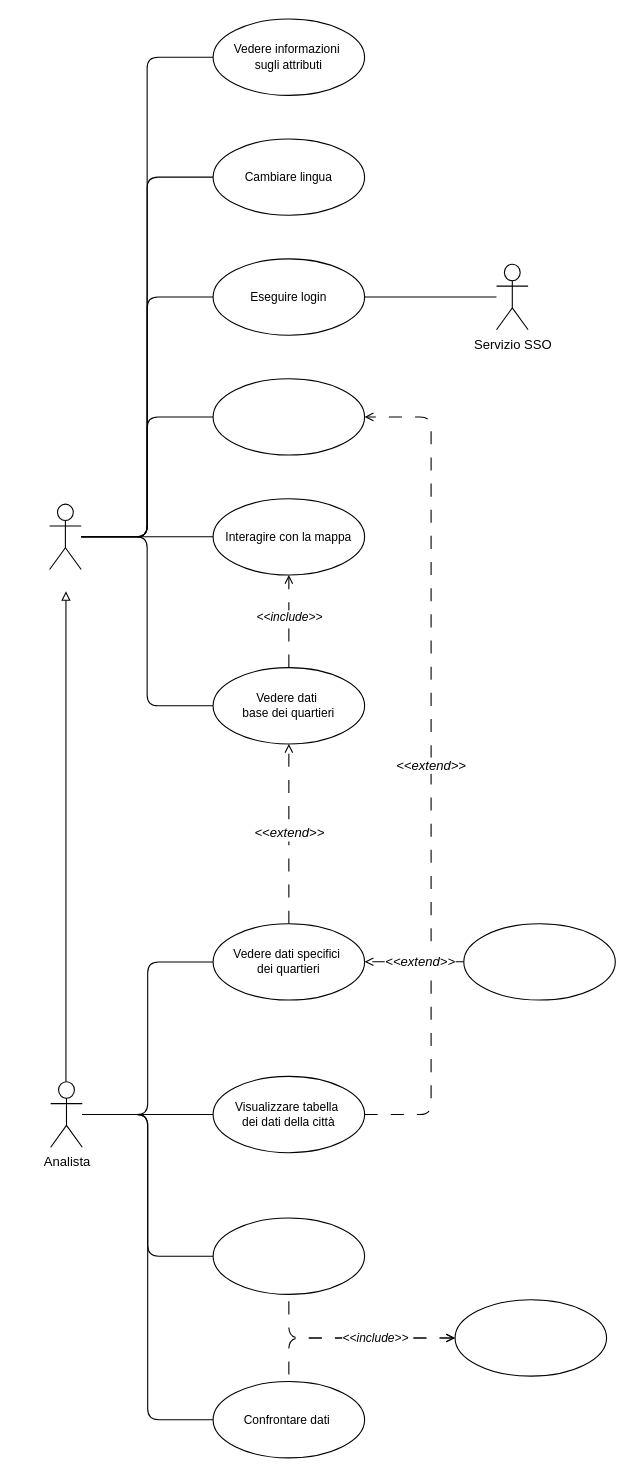
Some shapes in this 634 by 1477 pixel diagram are drawn without their labels. Each missing label, with the centre of its shape:
"Utente Anonimo" belongs at pixel 65 536.
"Vedere dati di un tipo specifico" belongs at pixel 539 961.
"Vedere dati generali città" belongs at pixel 288 416.
"Visualizzare grafici dei dati" belongs at pixel 530 1337.
"Visualizzare storico dei dati" belongs at pixel 288 1255.
